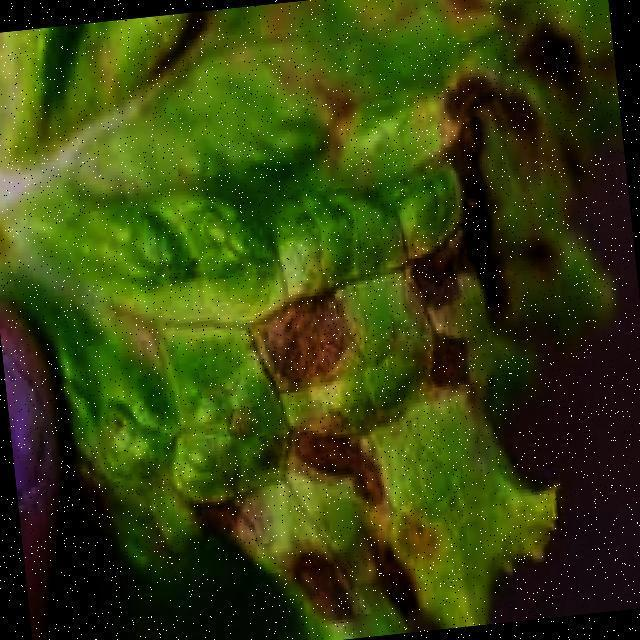Septoria_Blight: (199, 220, 534, 614)
